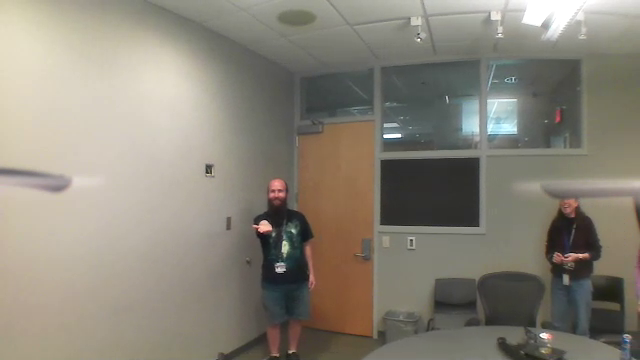land: (246, 215, 280, 238)
